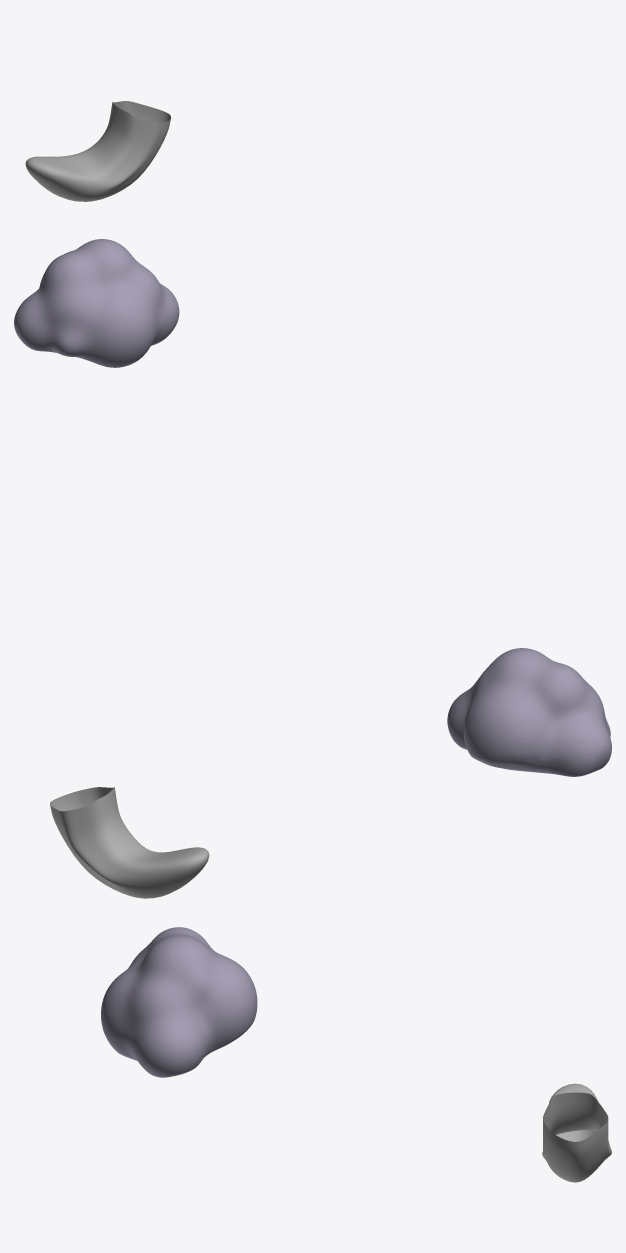
File: SK_SkyItems.fbx
3 renders of one model, top to bottom at view 1: azimuth 30°, elevation 25°; view 2: azimuth 150°, elevation 25°; view 3: azimuth 270°, elevation 25°, orthographic. The views are drawn at different scales.
Parts seen in each view (by area): view 1: cloud_high:SK_Cloud_01, cloud_high:SK_Moon; view 2: cloud_high:SK_Cloud_01, cloud_high:SK_Moon; view 3: cloud_high:SK_Cloud_01, cloud_high:SK_Moon.
Part boxes in pixels (left/top/right/bottom): cloud_high:SK_Cloud_01: left=14, top=239, right=179, bottom=367; cloud_high:SK_Moon: left=25, top=101, right=171, bottom=201; cloud_high:SK_Cloud_01: left=447, top=648, right=611, bottom=776; cloud_high:SK_Moon: left=50, top=787, right=209, bottom=898; cloud_high:SK_Cloud_01: left=101, top=927, right=257, bottom=1077; cloud_high:SK_Moon: left=542, top=1083, right=611, bottom=1182.
Size of the model in its own units: 26.07 by 10.9 by 22.36.
